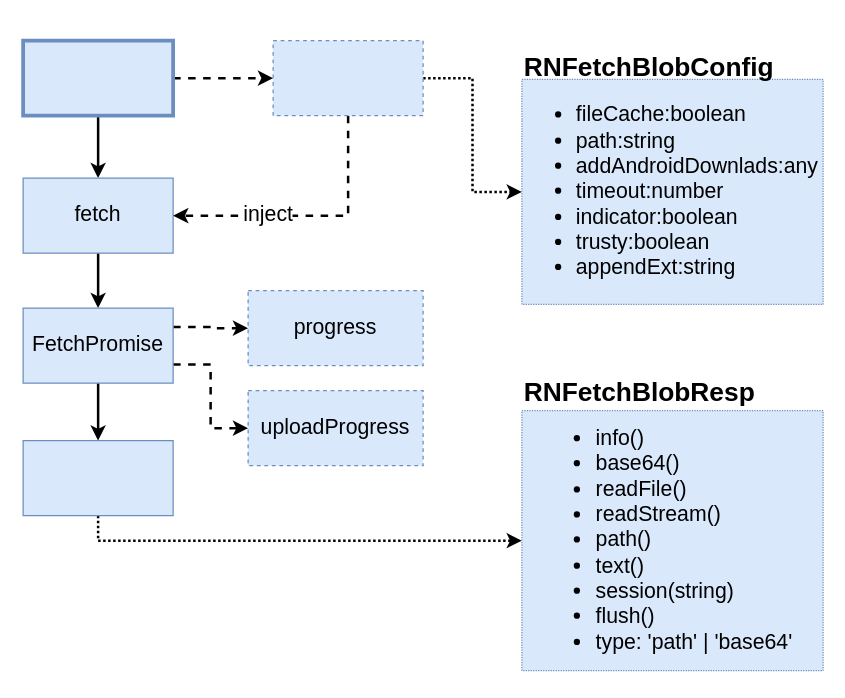
Some shapes in this 845 by 698 pixel diagram are drawn without their labels. Here are the shapes that lost their labels. From the top down, the box of each, then its label:
(21, 38, 174, 117): RNFetchBlob
(272, 39, 423, 116): config
(22, 439, 173, 516): FetchResp
